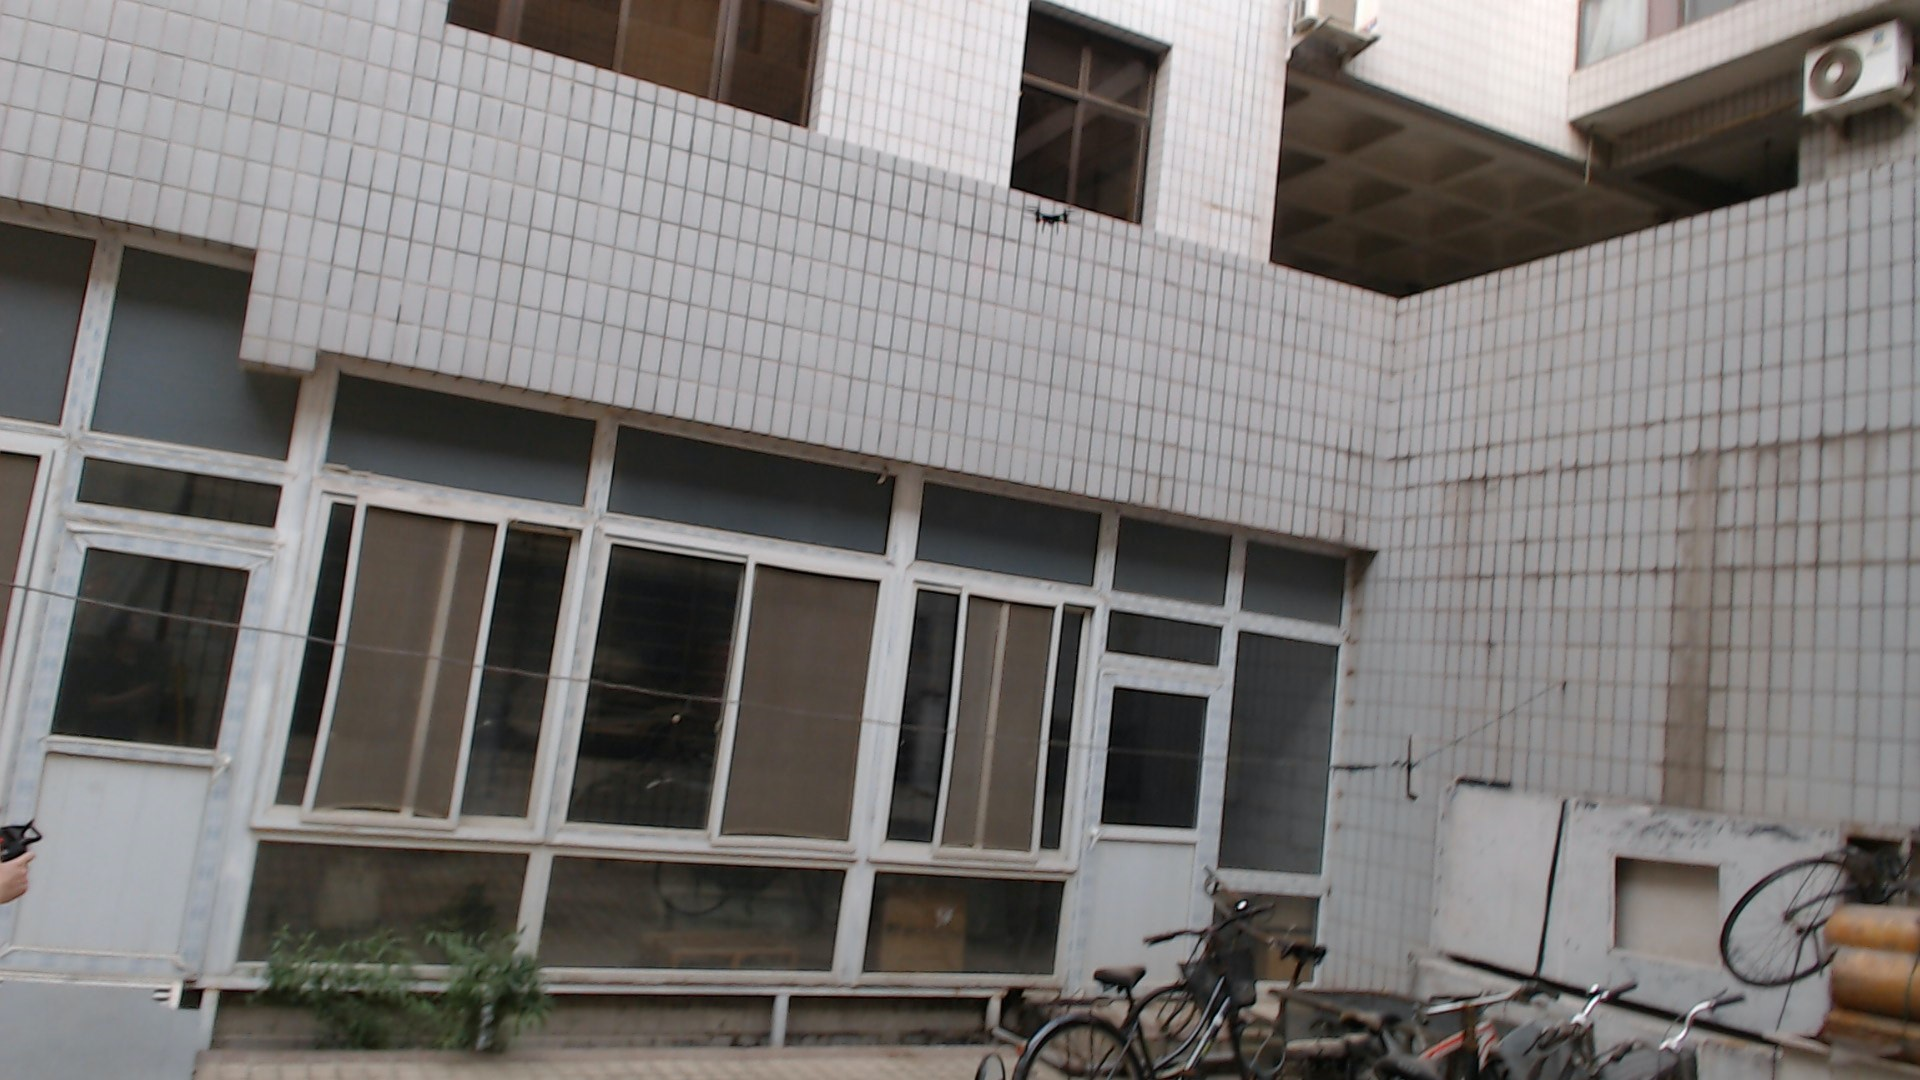drone: (985, 185, 1116, 253)
